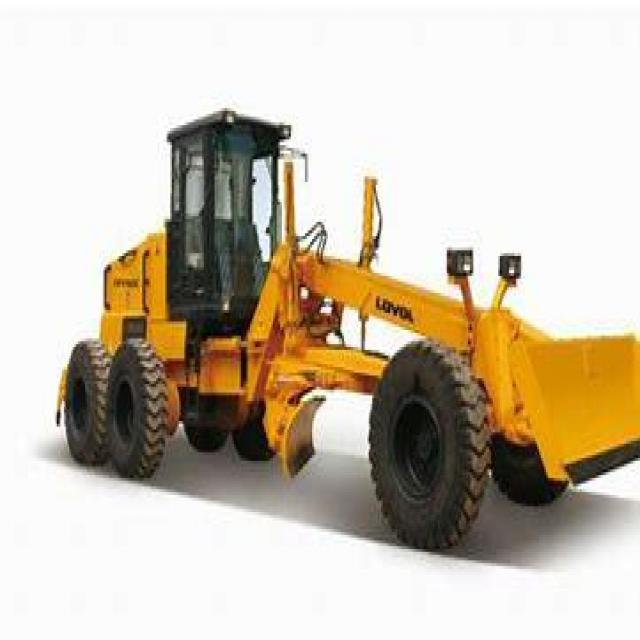Grader: (46, 91, 637, 546)
